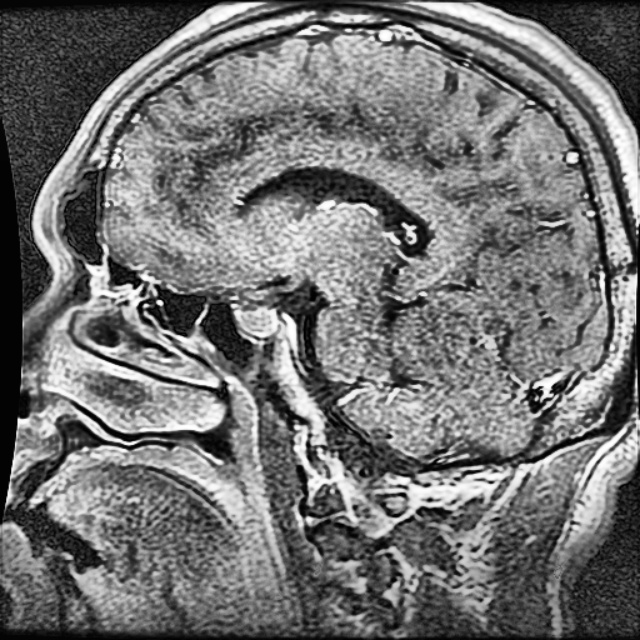Pituitary: (235, 305, 282, 338)
